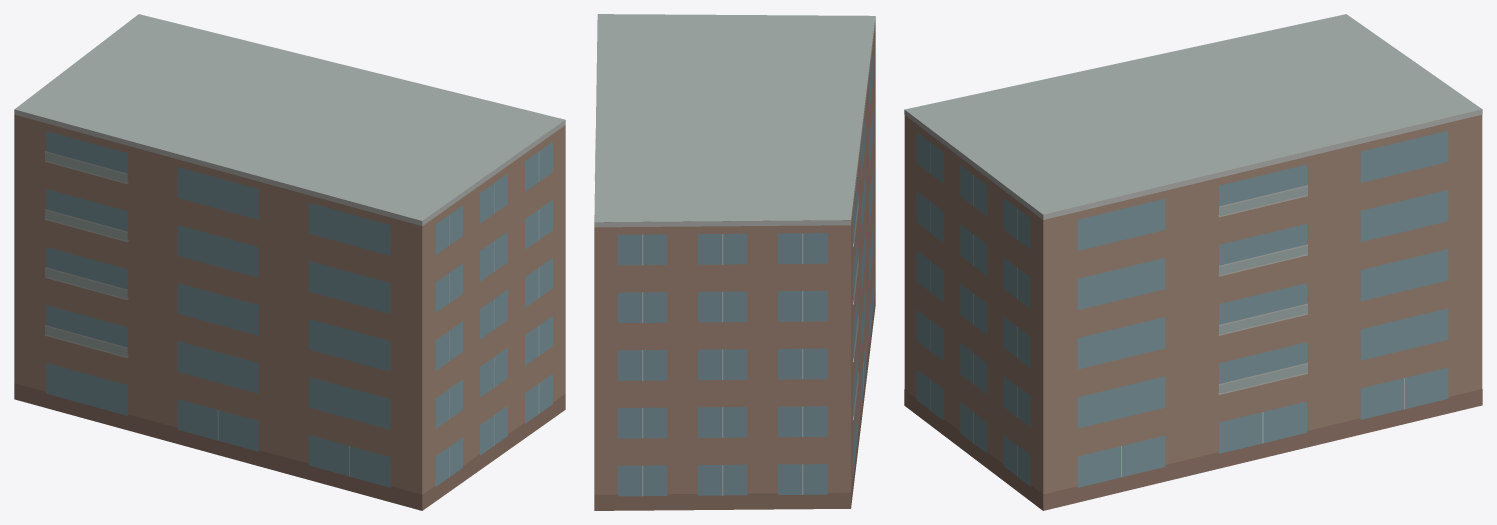
Rendered from survey-upis-32718388.glb.
3 views of the same model, side by side, from view 1: azimuth 30°, elevation 25°; view 2: azimuth 150°, elevation 25°; view 3: azimuth 270°, elevation 25° (orthographic). The views are drawn at different scales.
Visible parts, largest first — view 1: survey-upis-32718388.tmp; view 2: survey-upis-32718388.tmp; view 3: survey-upis-32718388.tmp.
Part boxes in pixels (x1=…): survey-upis-32718388.tmp: x1=14, y1=14, x2=565, y2=510; survey-upis-32718388.tmp: x1=594, y1=14, x2=875, y2=510; survey-upis-32718388.tmp: x1=904, y1=14, x2=1482, y2=510.
Bounding box in the file's own units: 19.79 × 13.6 × 24.07.
